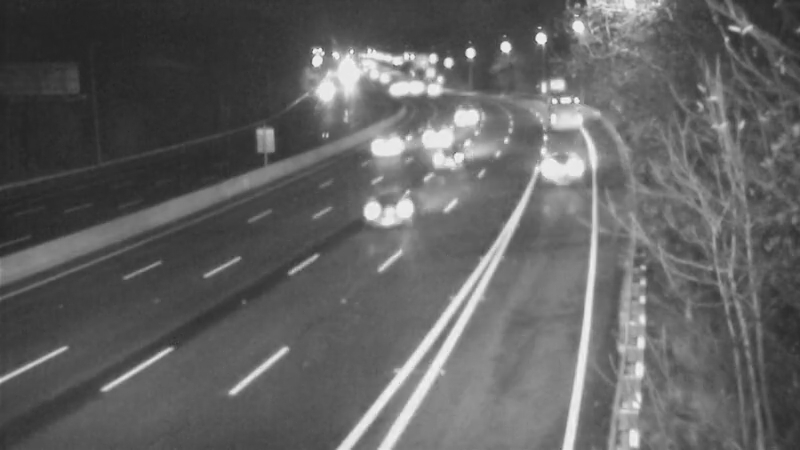vehicle: (415, 118, 495, 198), (518, 127, 598, 207), (350, 174, 430, 254), (391, 65, 441, 115), (366, 66, 416, 116), (403, 65, 453, 115), (537, 85, 587, 135), (442, 92, 492, 142), (416, 106, 466, 156), (366, 119, 416, 169)
